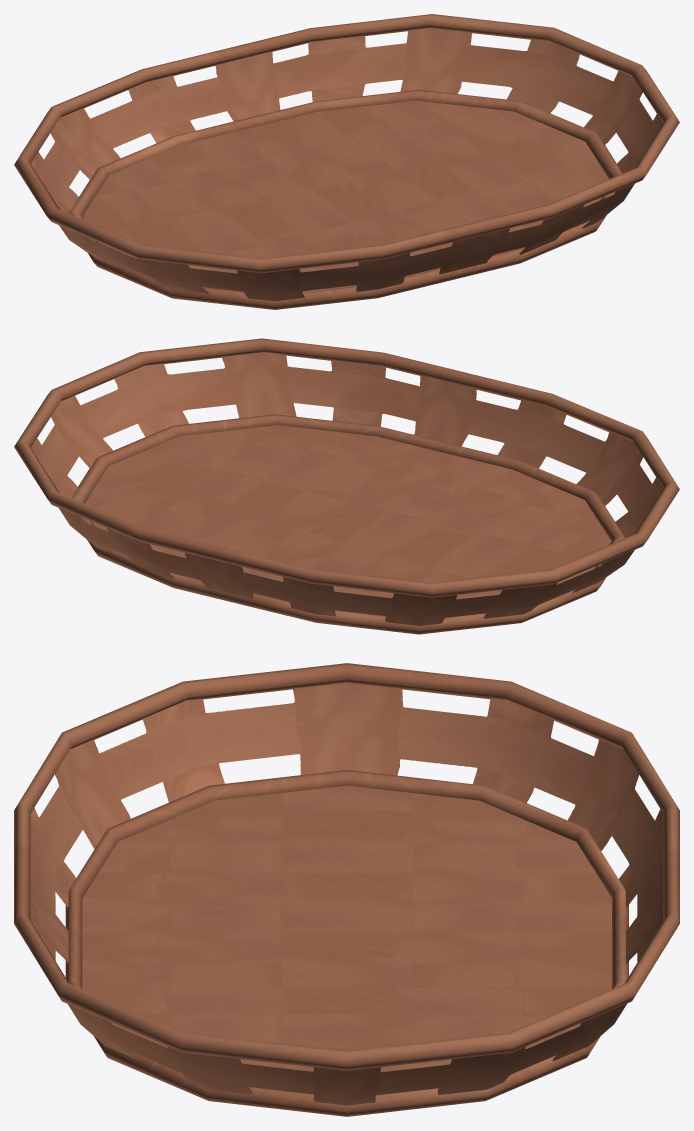
Rendered from basket_1.fbx.
The picture shows the model from 3 angles, top to bottom: view 1: azimuth 30°, elevation 25°; view 2: azimuth 150°, elevation 25°; view 3: azimuth 270°, elevation 25°; orthographic projection. The views are drawn at different scales.
Visible parts, largest first — view 1: basket_for_pie; view 2: basket_for_pie; view 3: basket_for_pie.
Part boxes in pixels (x1,y1,x2,y2): basket_for_pie: [14, 14, 679, 309]; basket_for_pie: [14, 338, 679, 634]; basket_for_pie: [14, 663, 679, 1116].
Bounding box in the file's own units: 50 × 5.49 × 35.49.
